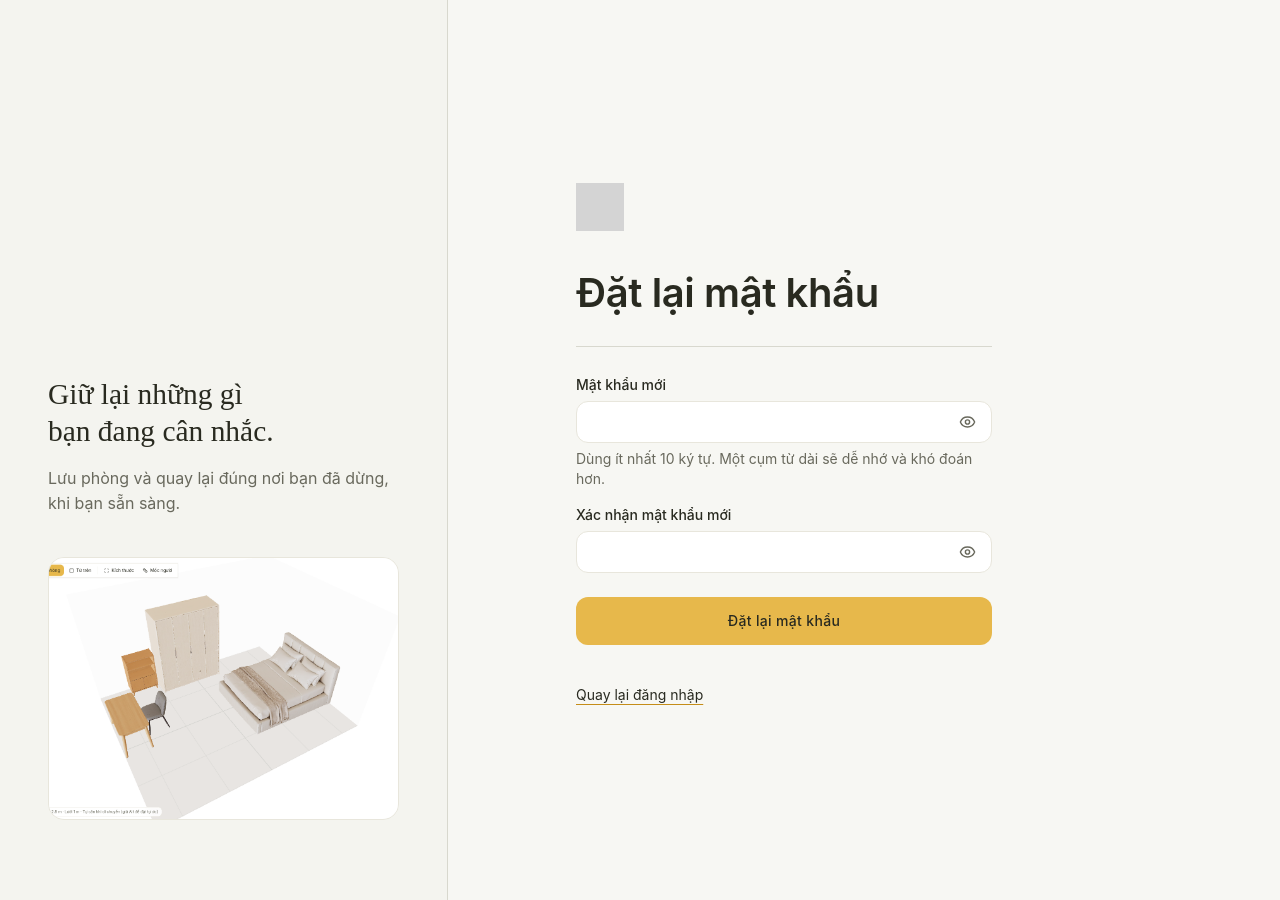
ResetPasswordPage › shows a validation error when the password confirmation does not match
The image size is (1280, 900).
Step 1. Type "password1234" into the password field labelled "Mật khẩu mới" → (784, 422), box x1=576 y1=401 x2=992 y2=443
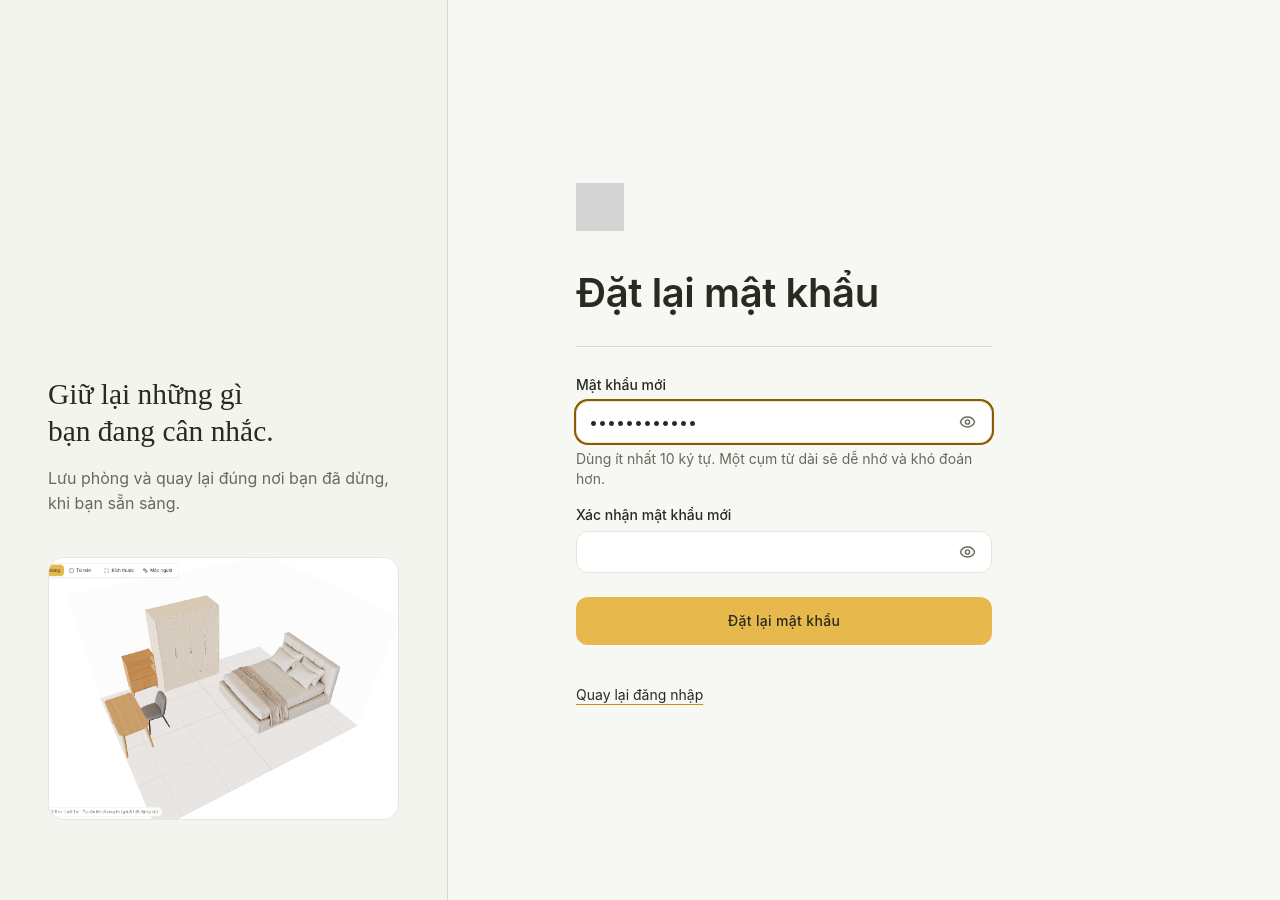
Step 2. Type "somethingelse123" into the password field labelled "Xác nhận mật khẩu mới" → (784, 552), box x1=576 y1=531 x2=992 y2=573
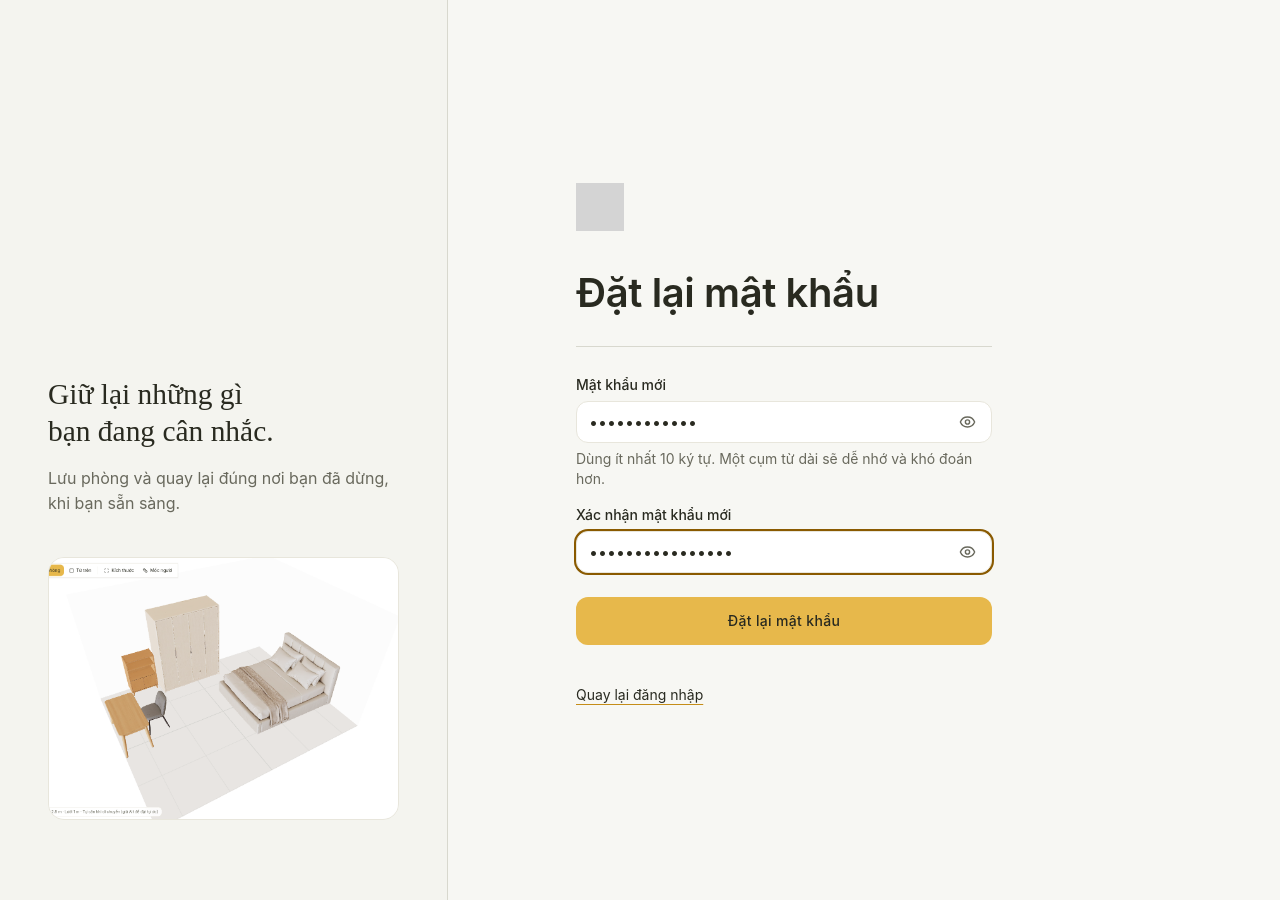
Step 3. Click the button "Đặt lại mật khẩu" → click(784, 621), box x1=576 y1=597 x2=992 y2=645
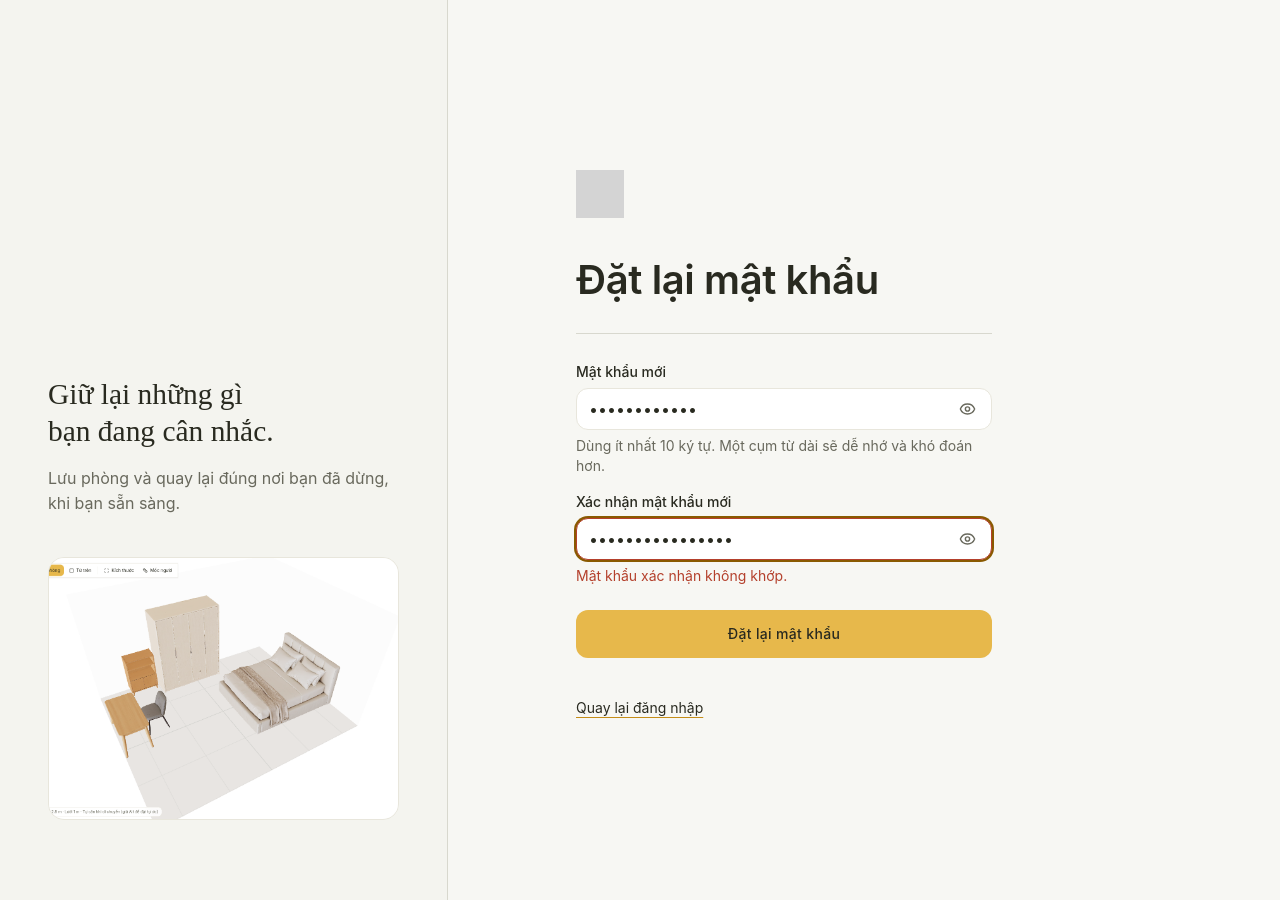
Result: the text "Mật khẩu xác nhận không khớp." is shown at x1=576 y1=567 x2=787 y2=584
